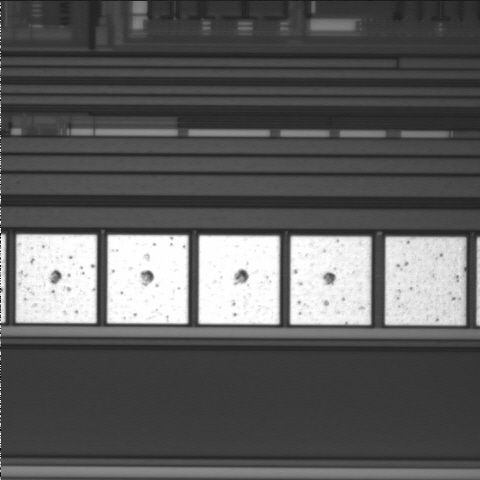pad: (16, 234, 97, 323), (107, 235, 188, 324), (199, 235, 280, 324), (290, 236, 371, 325), (385, 237, 466, 325)
